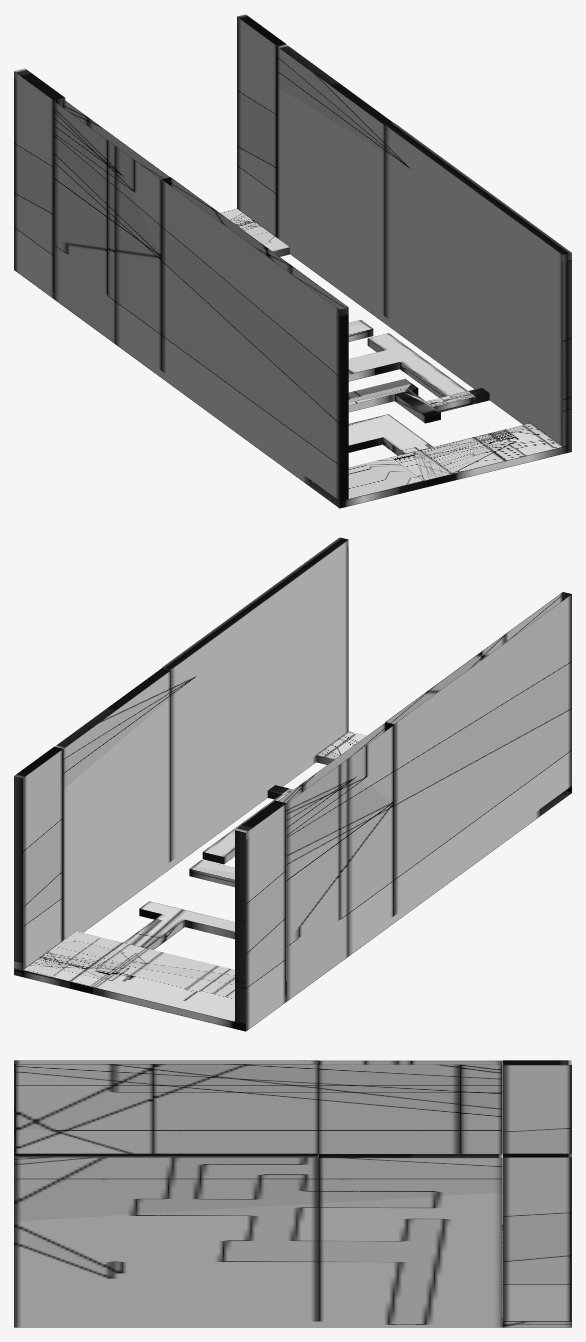
Rendered from maze2_visible.obj.
The picture shows the model from 3 angles, top to bottom: view 1: azimuth 30°, elevation 25°; view 2: azimuth 150°, elevation 25°; view 3: azimuth 270°, elevation 25°; orthographic projection. The views are drawn at different scales.
Visible parts, largest first — view 1: Cube; view 2: Cube; view 3: Cube.
Part boxes in pixels (x1=…): Cube: x1=14, y1=14, x2=571, y2=508; Cube: x1=14, y1=537, x2=571, y2=1031; Cube: x1=14, y1=1060, x2=571, y2=1327.
Size of the model in its own units: 8.29 by 6.79 by 20.14.
